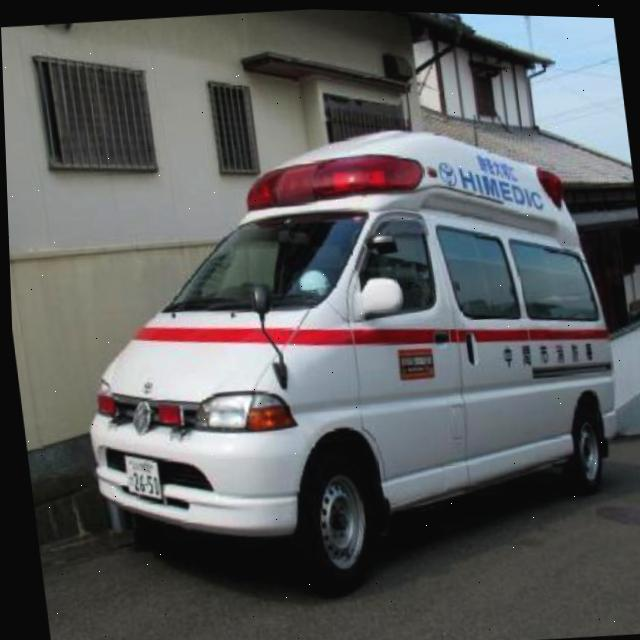emergency: (49, 101, 639, 616)
